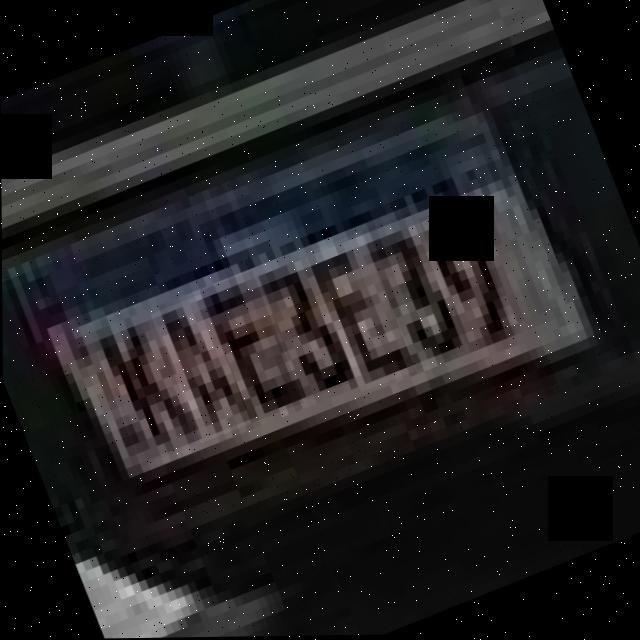3: (359, 212, 465, 373), (257, 257, 354, 402)
9: (418, 201, 517, 355)
A: (150, 294, 251, 444)
E: (306, 231, 417, 393), (199, 271, 303, 424)
K: (88, 304, 196, 466)
